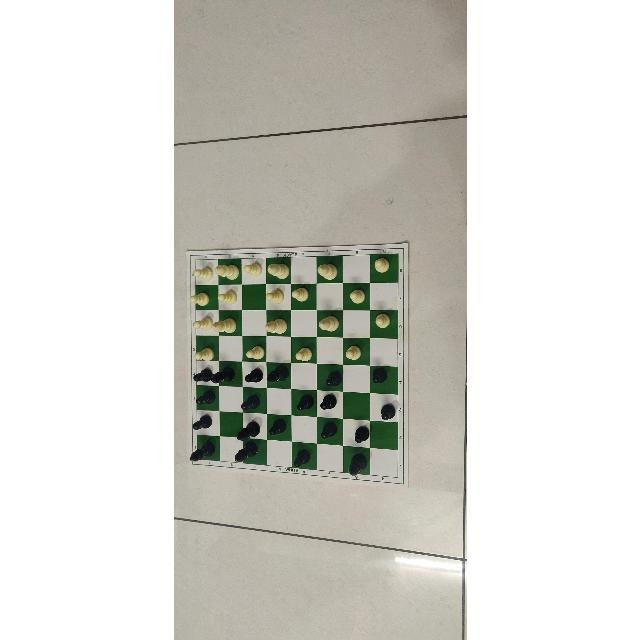black-bishop: (187, 441, 214, 463), (235, 421, 260, 441), (233, 442, 257, 462), (347, 452, 367, 475), (265, 365, 288, 384), (210, 367, 234, 384)
black-pawn: (292, 448, 310, 467), (192, 414, 212, 431), (243, 367, 263, 383), (195, 390, 215, 406), (319, 421, 336, 439), (240, 395, 260, 410), (192, 368, 212, 383), (378, 403, 395, 420), (324, 370, 341, 387), (268, 420, 286, 436), (319, 395, 337, 411), (296, 395, 313, 411), (353, 426, 368, 444), (371, 368, 387, 384)
white-bishop: (210, 316, 235, 333), (264, 318, 287, 336), (314, 263, 337, 280), (267, 263, 290, 279), (214, 264, 238, 279), (317, 316, 338, 332)
white-pawn: (192, 315, 212, 331), (264, 289, 283, 305), (188, 292, 208, 307), (244, 345, 264, 360), (191, 267, 212, 281), (294, 347, 312, 363), (242, 262, 262, 276), (194, 348, 214, 362), (348, 289, 365, 305), (290, 287, 308, 302), (373, 258, 389, 274), (374, 314, 390, 330), (343, 345, 360, 360), (217, 290, 235, 303)
